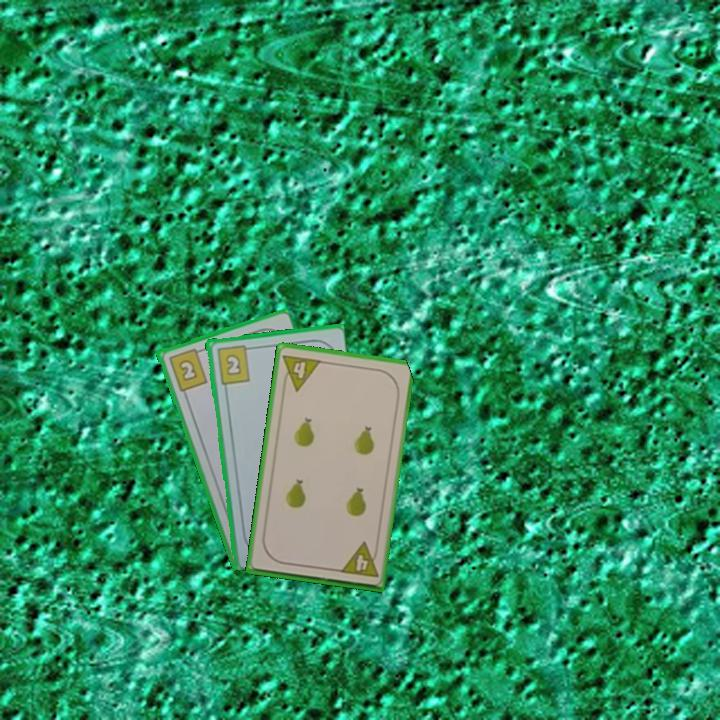2b: (165, 345, 210, 394), (213, 342, 255, 387)
4p: (278, 350, 324, 394), (336, 539, 381, 580)
